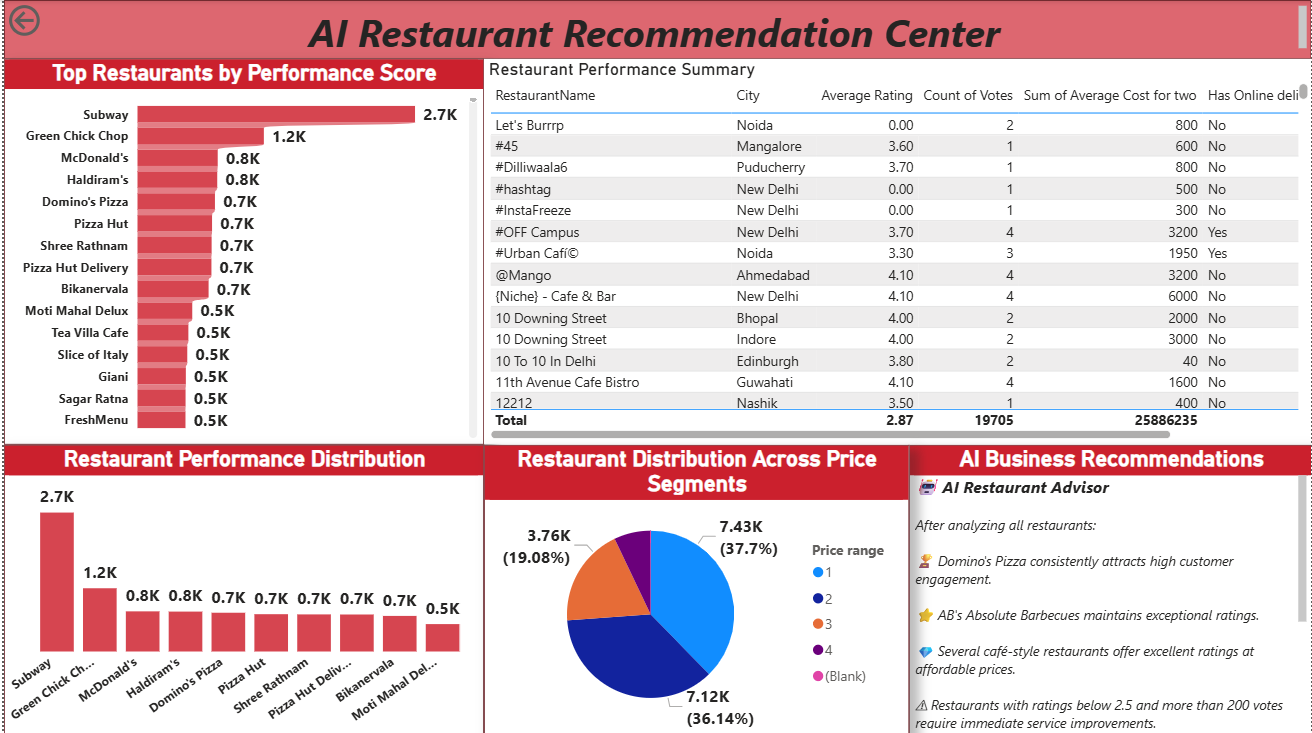

The dashboard page shown, as its layout file describes it:
{"tool":"powerbi","page":{"name":"AI Restaurant Recommendation Center","canvas":[1280,720],"ordinal":4},"visuals":[{"type":"textbox","box":[0,0,1280.3,57.6],"z":0},{"type":"barChart","title":"Top Restaurants by Performance Score","fields":{"Category":["Sheet1.RestaurantName"],"Y":["Table.Performance Score"]},"box":[0,57.6,469.3,377.4],"z":1000},{"type":"actionButton","box":[0,0,100,40],"z":2000},{"type":"clusteredColumnChart","title":"Restaurant Performance Distribution","fields":{"Category":["Sheet1.RestaurantName"],"Y":["Table.Performance Score"]},"box":[0,435,469.3,285.4],"z":3000},{"type":"tableEx","title":"Restaurant Performance Summary","fields":{"Values":["Sheet1.RestaurantName","Sheet1.City","Dataset.Average Rating","CountNonNull(Dataset.Votes)","Sum(Dataset.Average Cost for two)","Dataset.Has Online delivery","Dataset.Has Table booking"]},"box":[469,58,811,377],"z":4000},{"type":"textbox","title":"AI Business Recommendations","box":[885.1,435,395.2,284],"z":5000},{"type":"pieChart","title":"Restaurant Distribution Across Price Segments","fields":{"Category":["Dataset.Price range"],"Y":["CountNonNull(Dataset.Restaurant ID)"]},"box":[469.3,435,415.8,284],"z":5001}]}

Visuals, with their boxes in screenshot pixels (x1, y1, x2, y2), scaled from the page's 1280x720 canvas onto the 1312x733 screenshot:
textbox: [left=0, top=0, right=1311, bottom=59]
"Top Restaurants by Performance Score" barChart: [left=0, top=59, right=481, bottom=443]
actionButton: [left=0, top=0, right=102, bottom=41]
"Restaurant Performance Distribution" clusteredColumnChart: [left=0, top=443, right=481, bottom=732]
"Restaurant Performance Summary" tableEx: [left=481, top=59, right=1311, bottom=443]
"AI Business Recommendations" textbox: [left=907, top=443, right=1311, bottom=732]
"Restaurant Distribution Across Price Segments" pieChart: [left=481, top=443, right=907, bottom=732]
